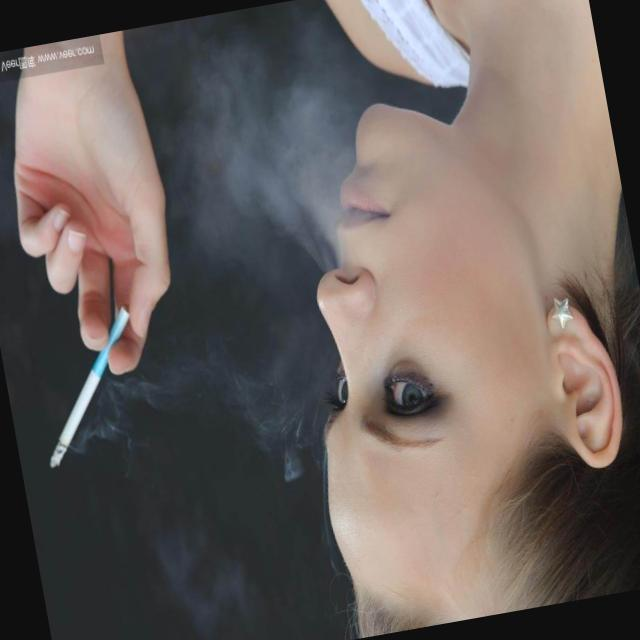cigarette: (22, 301, 155, 474)
